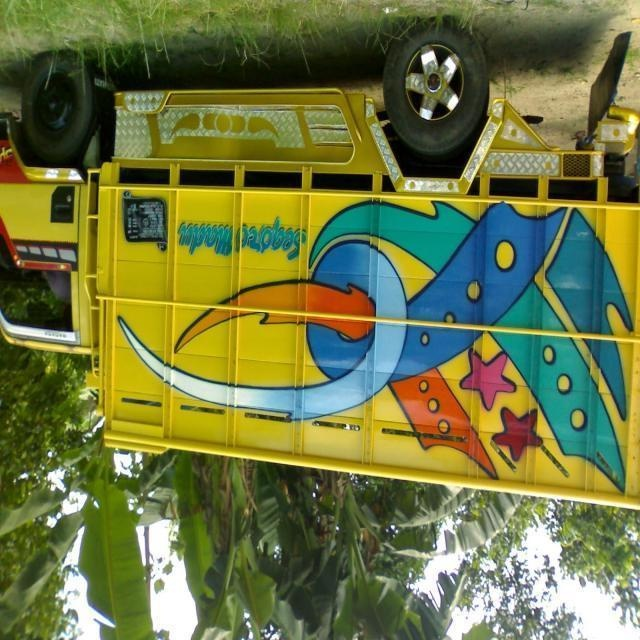Truck: (1, 31, 638, 516)
